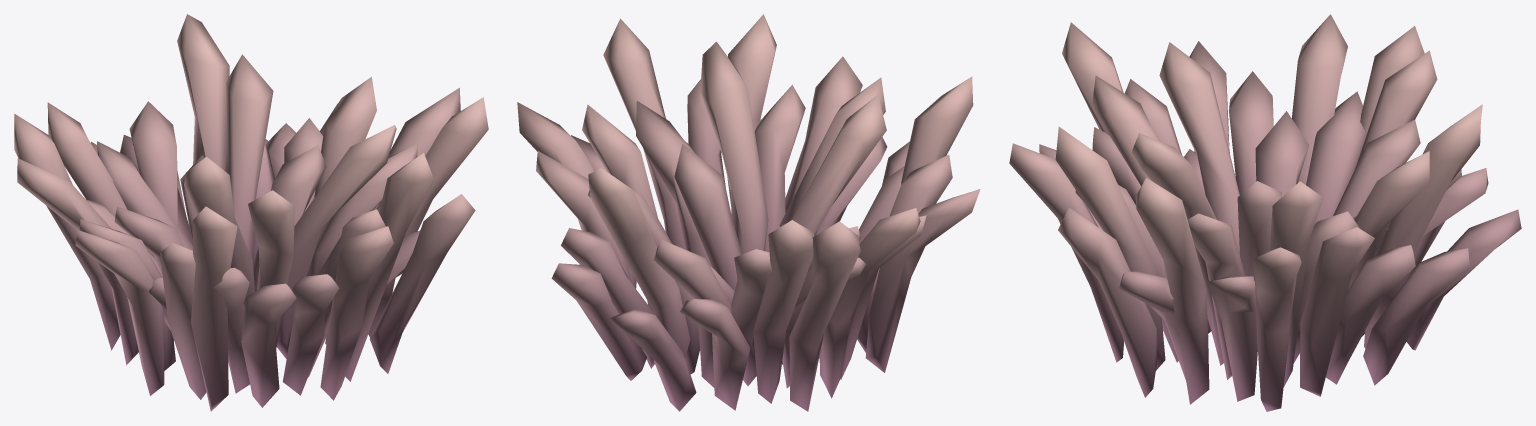
File: anemone_low.glb
3 renders of one model, left to right at view 1: azimuth 30°, elevation 25°; view 2: azimuth 150°, elevation 25°; view 3: azimuth 270°, elevation 25°, orthographic. The views are drawn at different scales.
Visible parts, largest first — view 1: world; view 2: world; view 3: world.
Part boxes in pixels (bbox=[...]): world: bbox=[14, 14, 488, 411]; world: bbox=[517, 14, 980, 411]; world: bbox=[1009, 14, 1521, 411].
Size of the model in its own units: 0.9357 by 0.5436 by 0.9257.
